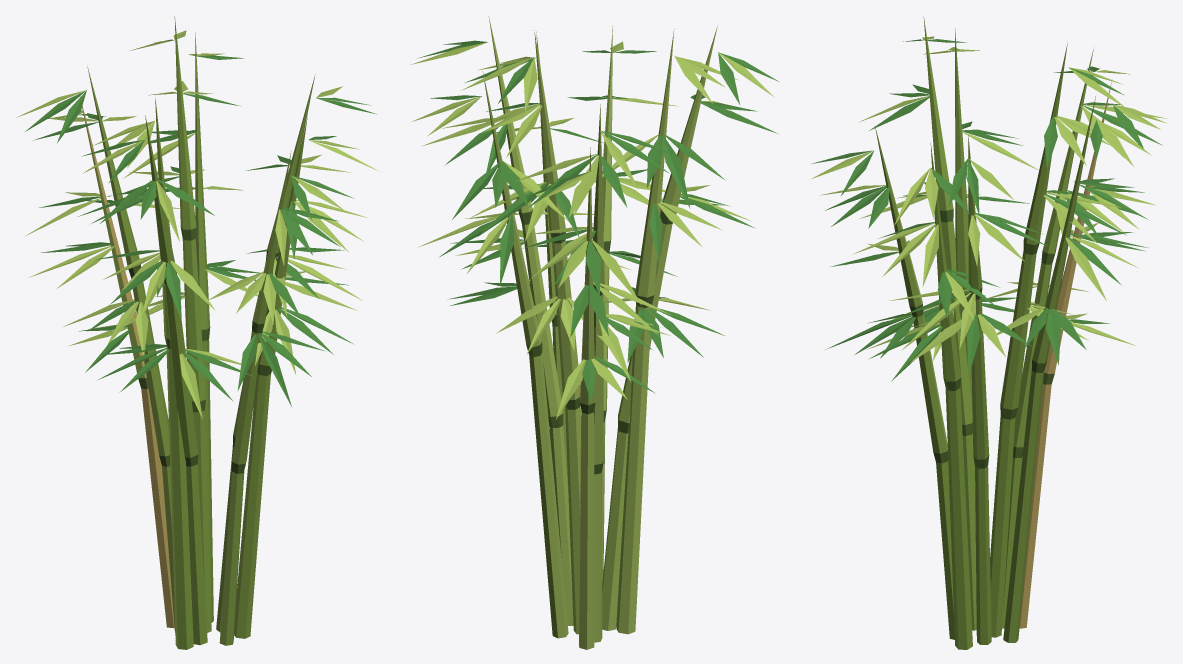
The model's file is bamboo_cluster_a.fbx.
3 views of the same model, side by side, from view 1: azimuth 30°, elevation 25°; view 2: azimuth 150°, elevation 25°; view 3: azimuth 270°, elevation 25° (orthographic). The views are drawn at different scales.
Parts seen in each view (by area): view 1: bamboo_cluster_a; view 2: bamboo_cluster_a; view 3: bamboo_cluster_a.
Part boxes in pixels (<box>): bamboo_cluster_a: <box>16,16,377,649</box>; bamboo_cluster_a: <box>410,16,779,649</box>; bamboo_cluster_a: <box>811,16,1166,649</box>.
Size of the model in its own units: 5.01 by 8.98 by 4.89.
